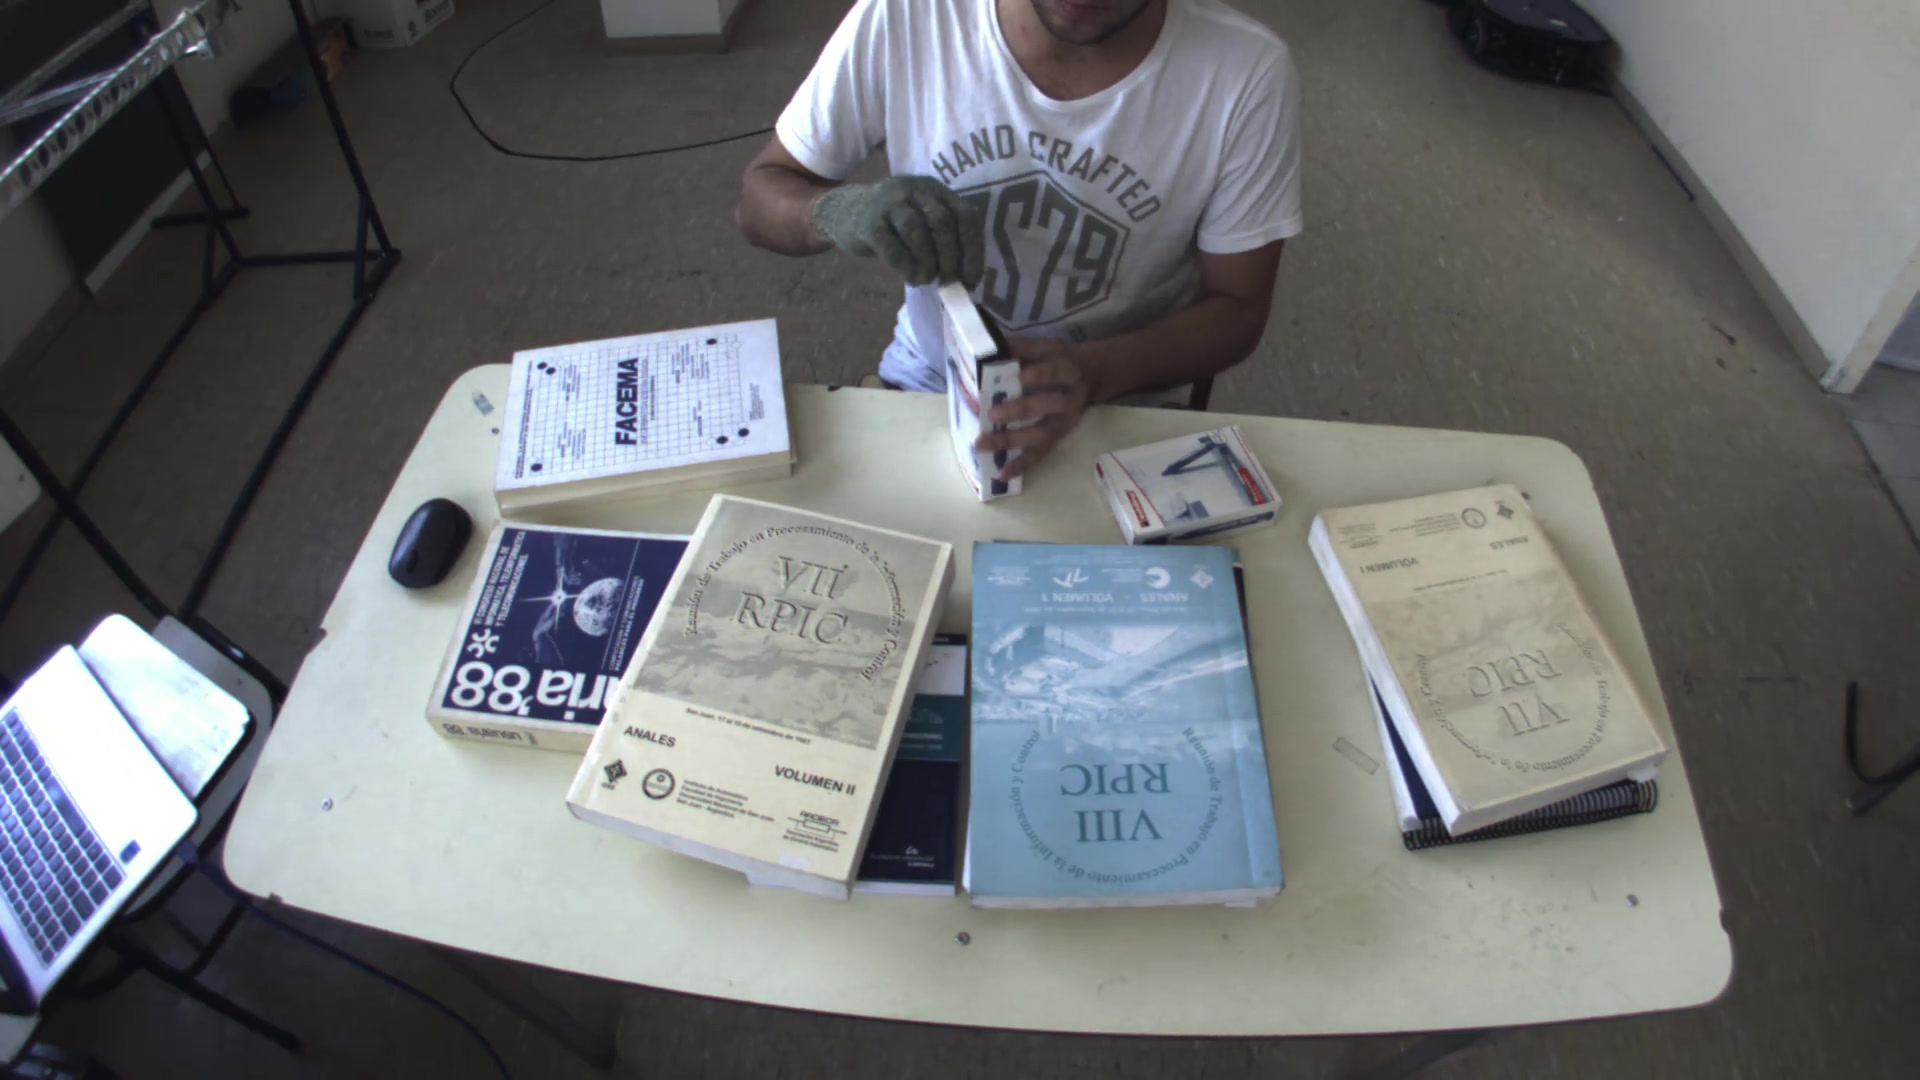hand: (957, 324, 1095, 495), (808, 162, 977, 284)
